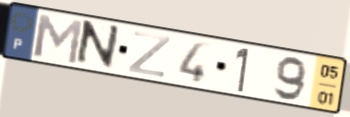1: (233, 47, 250, 95)
4: (176, 39, 210, 86)
9: (274, 55, 310, 102)
M: (31, 11, 85, 66)
N: (72, 18, 123, 72)
Z: (125, 29, 173, 80)
